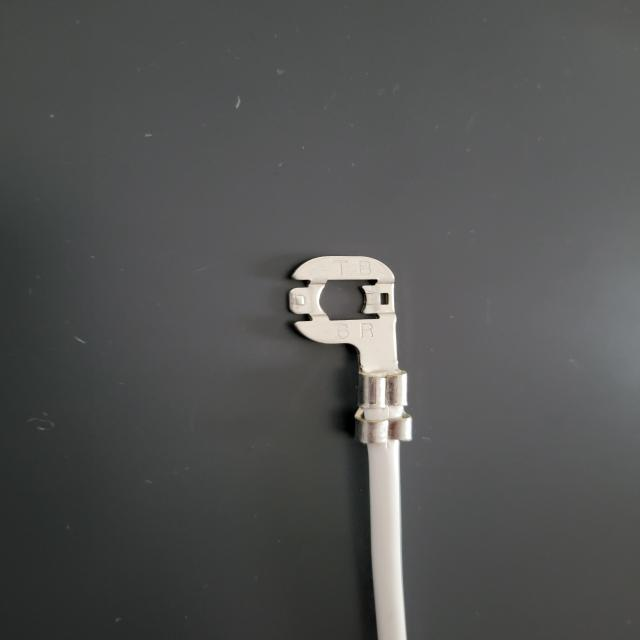defect: (331, 363, 463, 461)
